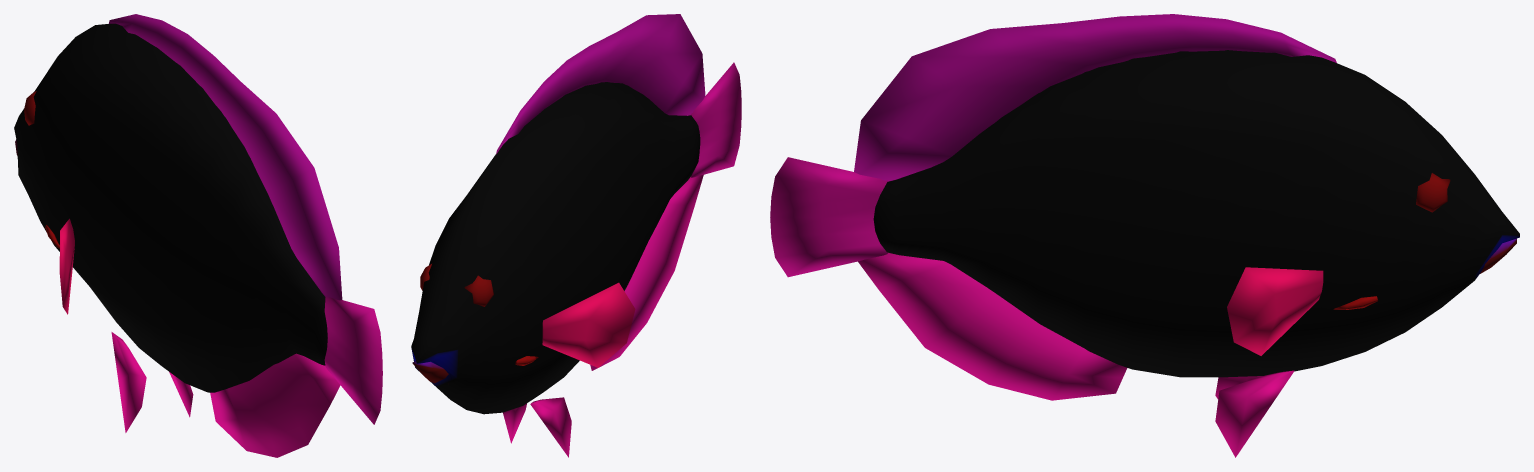
The model's file is angelfish_emperor_lo.glb.
3 views of the same model, side by side, from view 1: azimuth 30°, elevation 25°; view 2: azimuth 150°, elevation 25°; view 3: azimuth 270°, elevation 25° (orthographic). The views are drawn at different scales.
Visible parts, largest first — view 1: angelfish_emperor_lo; view 2: angelfish_emperor_lo; view 3: angelfish_emperor_lo.
Part boxes in pixels (box(x1,y1,x2,y2)): angelfish_emperor_lo: box(14, 14, 382, 457); angelfish_emperor_lo: box(411, 14, 741, 457); angelfish_emperor_lo: box(770, 14, 1519, 457).
Size of the model in its own units: 0.114 by 0.2204 by 0.35.
